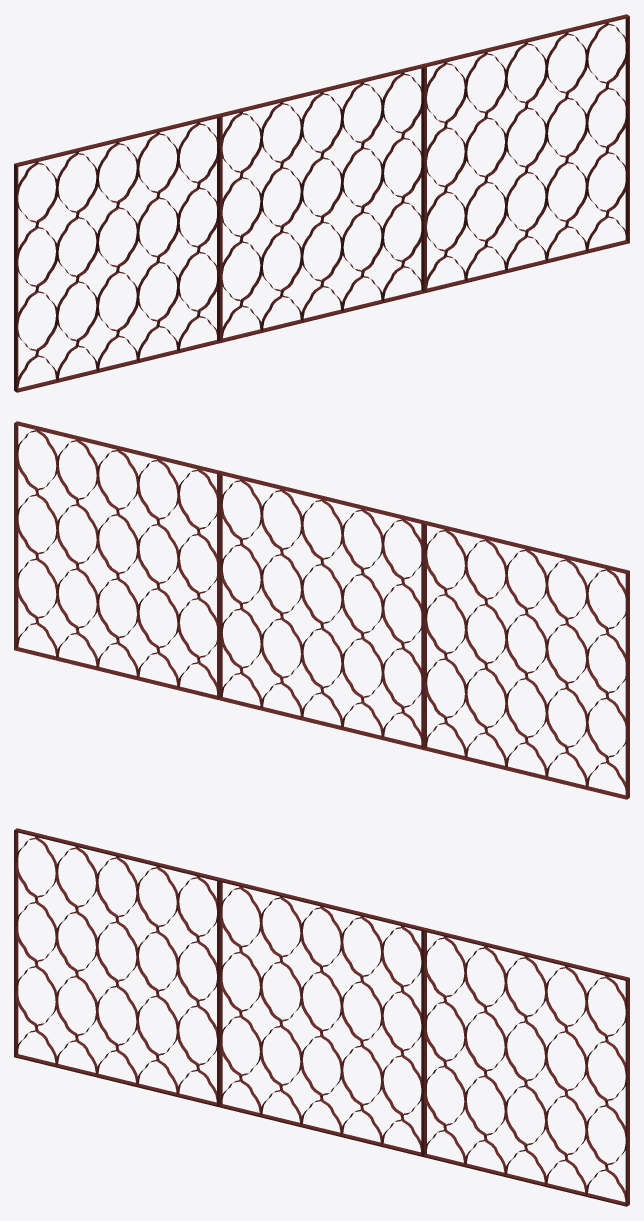
File: entrance-decor-i209a.fbx
3 renders of one model, top to bottom at view 1: azimuth 30°, elevation 25°; view 2: azimuth 150°, elevation 25°; view 3: azimuth 330°, elevation 25°, orthographic.
Visible parts, largest first — view 1: i209a-entrance-enter-decor; view 2: i209a-entrance-enter-decor; view 3: i209a-entrance-enter-decor.
Part boxes in pixels (<box>): i209a-entrance-enter-decor: <box>14,14,629,392</box>; i209a-entrance-enter-decor: <box>14,421,629,799</box>; i209a-entrance-enter-decor: <box>14,828,629,1206</box>.
Size of the model in its own units: 237 by 83.78 by 2.
